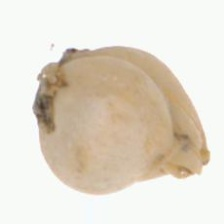L1: (31, 47, 74, 120), (153, 133, 211, 181)
L2: (33, 46, 211, 195)
